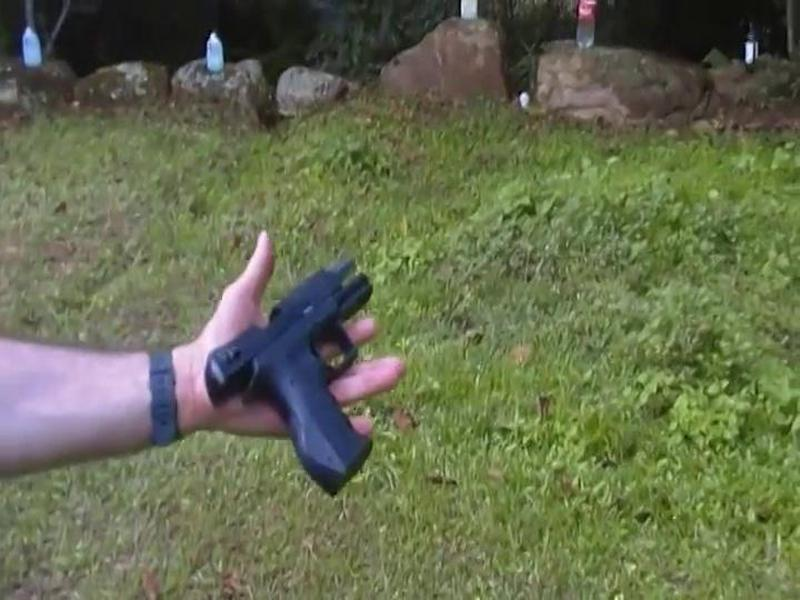Pistola: (187, 240, 395, 491)
